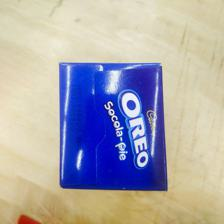Oreo: (56, 60, 170, 192)
